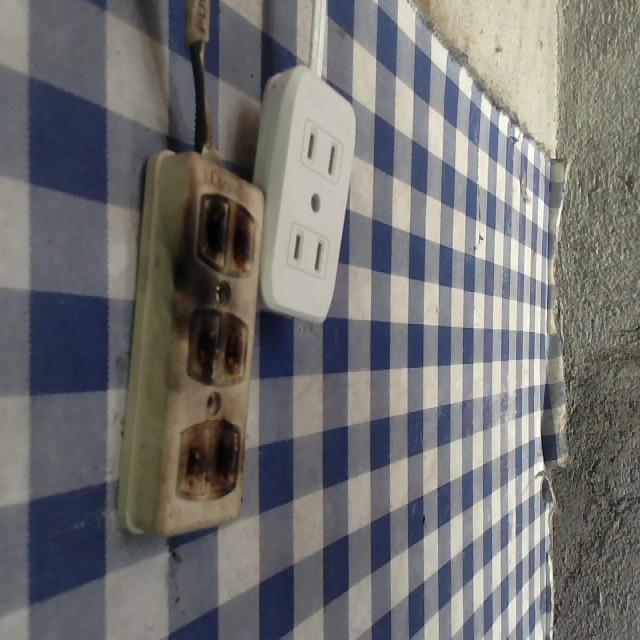-: (190, 183, 261, 277), (185, 302, 250, 394), (176, 414, 243, 502)
